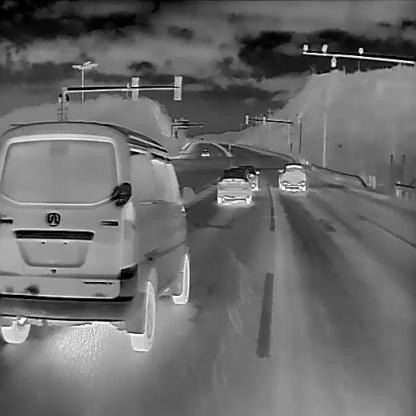car: (0, 119, 195, 350), (216, 167, 252, 204), (276, 160, 306, 190), (235, 162, 259, 188), (200, 146, 210, 156)
